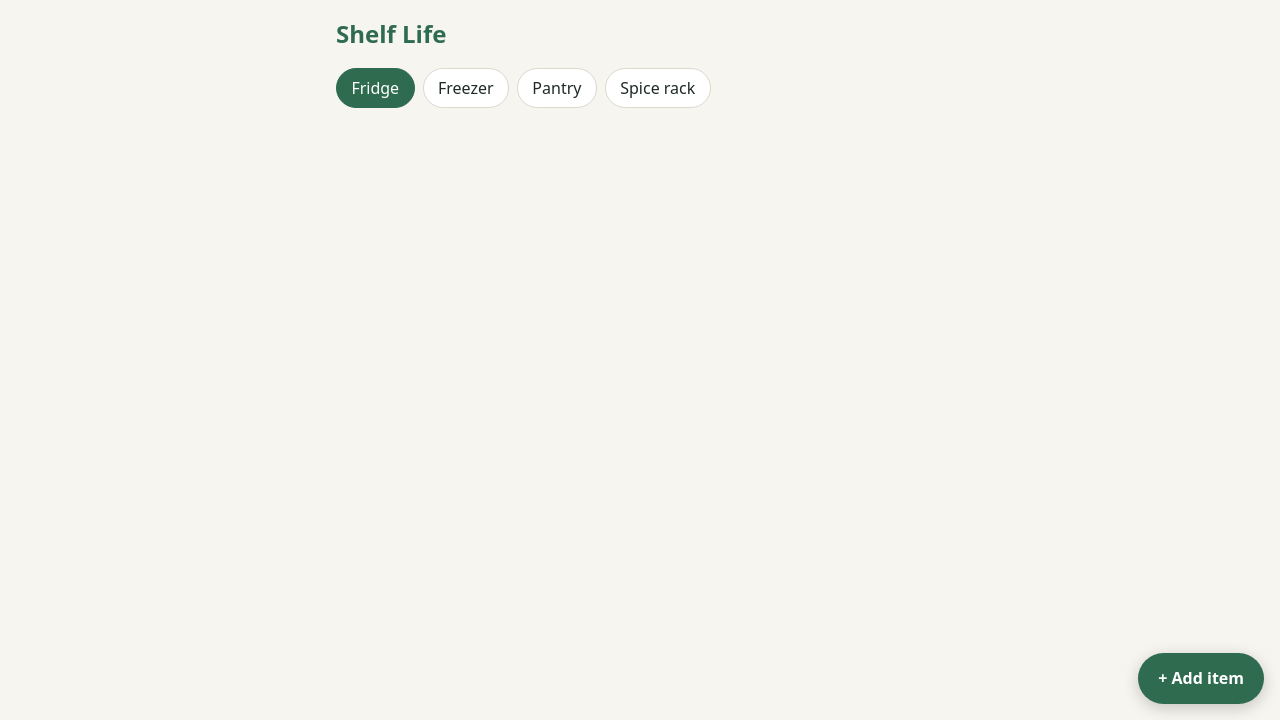
Test case: Inventory screens › requires a name
The image size is (1280, 720).
Click the button "+ Add item" at coordinates (1201, 678), box [1138,653,1264,704]
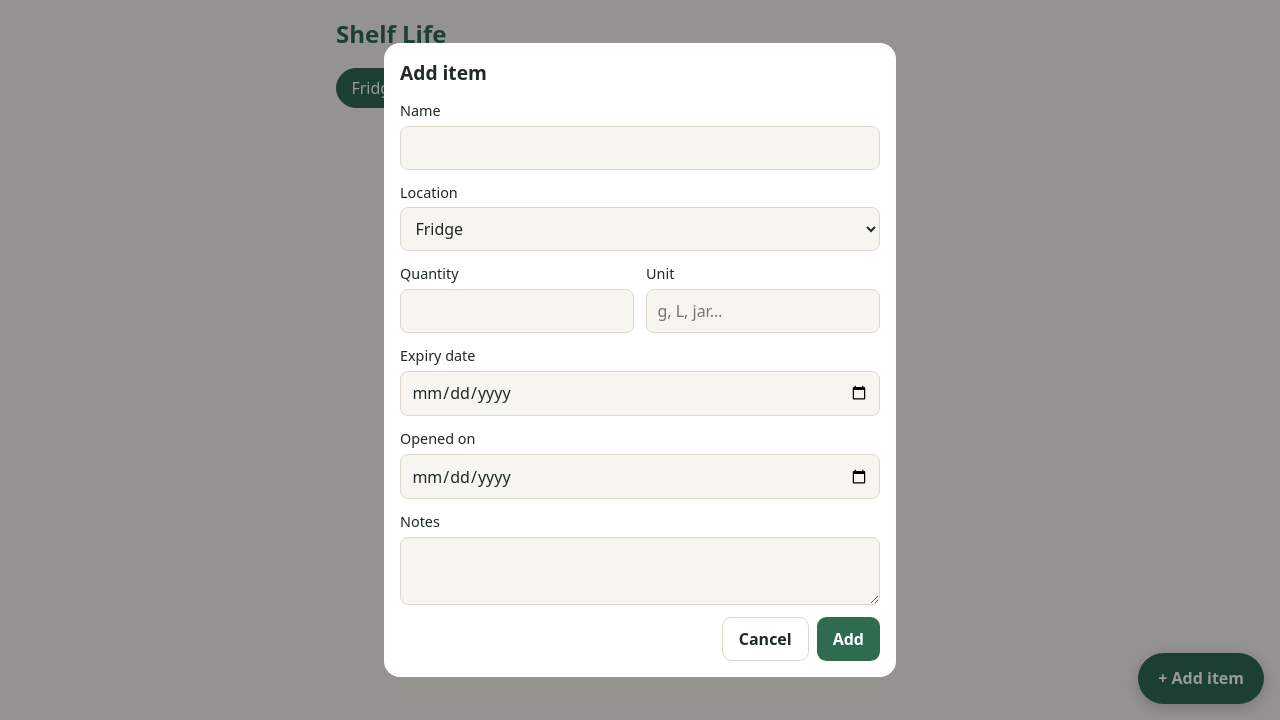
Click the button "Add" at coordinates (848, 639), box [817,617,880,661]
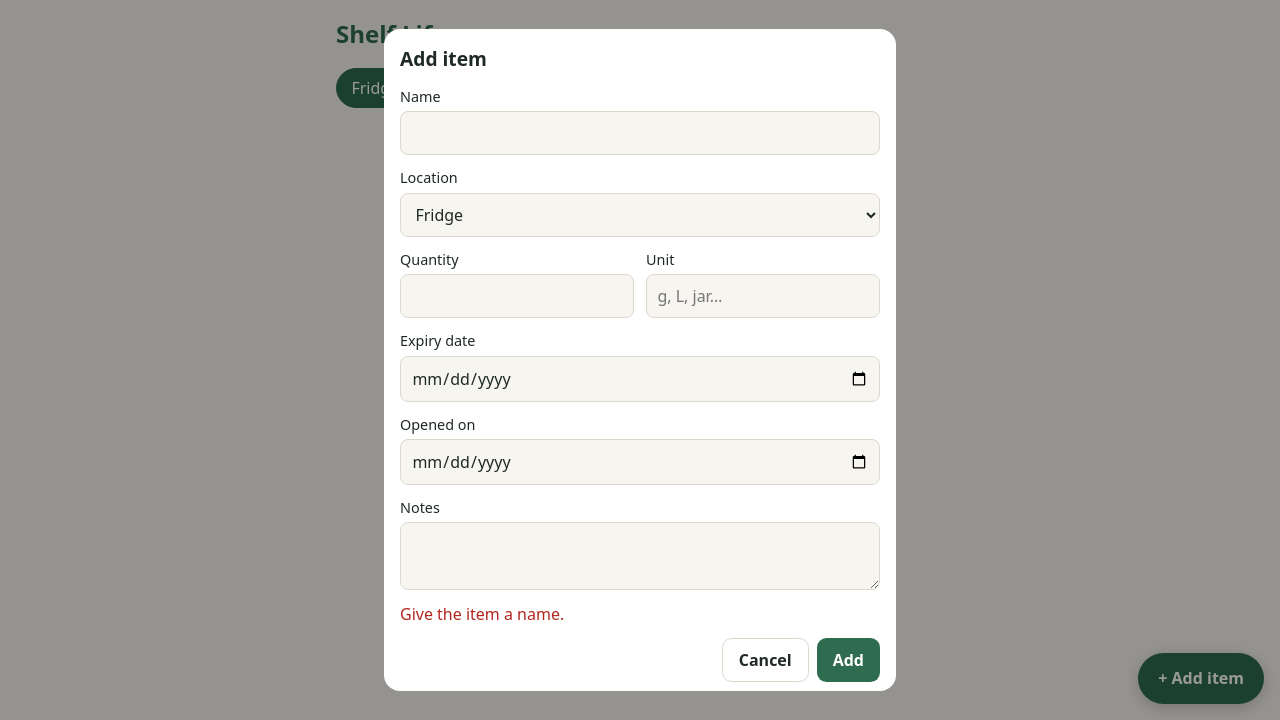
Expected: the message reads "Give the item a name.", [400,603,564,625]
